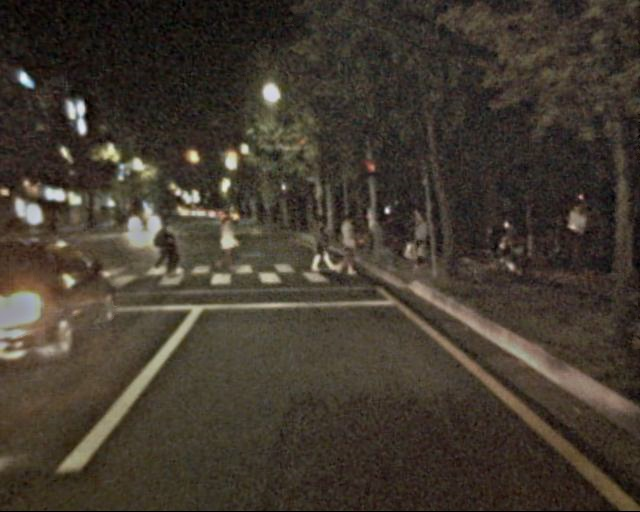person: (147, 210, 177, 283), (209, 214, 237, 283), (303, 212, 331, 281), (333, 214, 361, 282), (371, 211, 399, 279), (405, 212, 430, 273)
